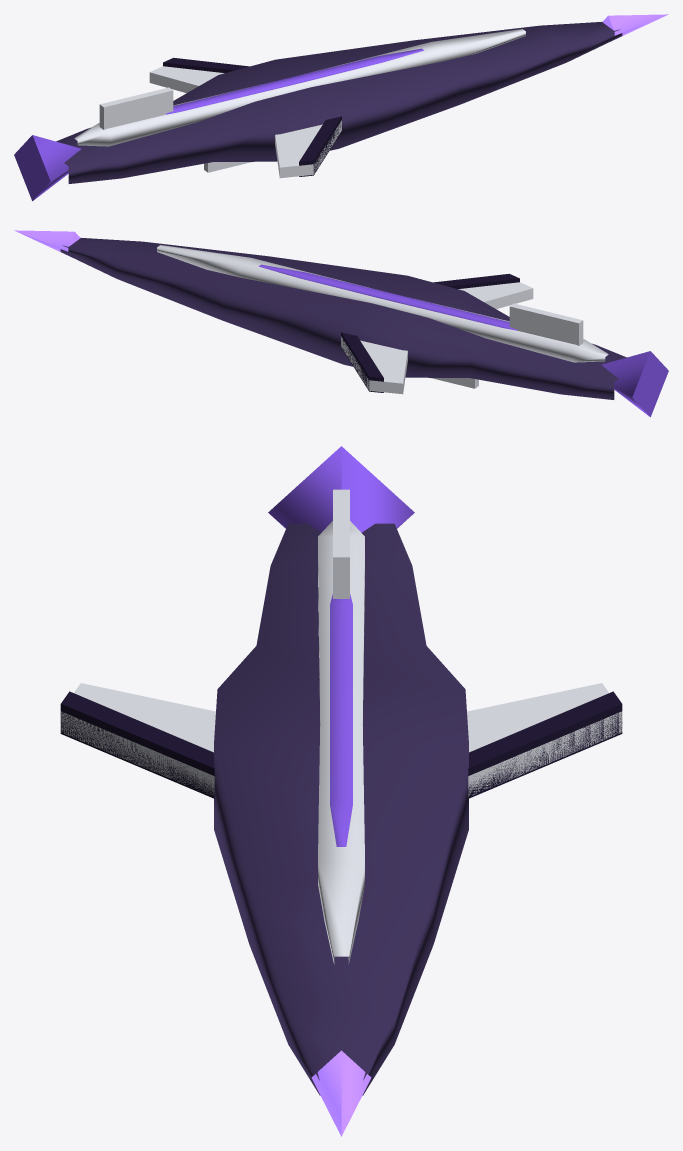
Rendered from versicle-hadron.glb.
The picture shows the model from 3 angles, top to bottom: view 1: azimuth 30°, elevation 25°; view 2: azimuth 150°, elevation 25°; view 3: azimuth 270°, elevation 25°; orthographic projection. The views are drawn at different scales.
Parts seen in each view (by area): view 1: blade_hull, blade_spine, drive_prism, spine_inlay, dorsal_fin, guard_blade_s, guard_blade_p, guard_edge_s, emitter_crystal, guard_edge_p; view 2: blade_hull, blade_spine, drive_prism, spine_inlay, dorsal_fin, guard_blade_p, guard_blade_s, guard_edge_p, emitter_crystal, guard_edge_s; view 3: blade_hull, blade_spine, guard_blade_p, guard_blade_s, guard_edge_s, guard_edge_p, drive_prism, spine_inlay, emitter_crystal, dorsal_fin.
Part boxes in pixels (box(x1,y1,x2,y2)): blade_hull: box(56, 22, 622, 183); blade_spine: box(74, 29, 525, 146); drive_prism: box(14, 135, 81, 201); spine_inlay: box(166, 48, 423, 114); dorsal_fin: box(99, 87, 173, 129); guard_blade_s: box(275, 120, 341, 178); guard_blade_p: box(149, 66, 224, 93); guard_edge_s: box(299, 116, 341, 176); emitter_crystal: box(602, 14, 668, 41); guard_edge_p: box(163, 57, 249, 72); blade_hull: box(60, 238, 626, 399); blade_spine: box(157, 245, 608, 362); drive_prism: box(601, 351, 668, 417); spine_inlay: box(259, 264, 516, 330); dorsal_fin: box(509, 303, 583, 345); guard_blade_p: box(341, 336, 407, 394); guard_blade_s: box(458, 282, 533, 309); guard_edge_p: box(341, 332, 383, 392); emitter_crystal: box(14, 230, 80, 257); guard_edge_s: box(433, 273, 519, 288); blade_hull: box(214, 523, 468, 1095); blade_spine: box(318, 521, 364, 964); guard_blade_p: box(467, 683, 622, 796); guard_blade_s: box(60, 683, 215, 796); guard_edge_s: box(60, 691, 214, 798); guard_edge_p: box(468, 691, 622, 798); drive_prism: box(268, 446, 414, 532); spine_inlay: box(330, 594, 352, 846); emitter_crystal: box(311, 1050, 371, 1136); dorsal_fin: box(333, 489, 349, 598).
Size of the model in its own units: 22 by 3 by 8.4.
